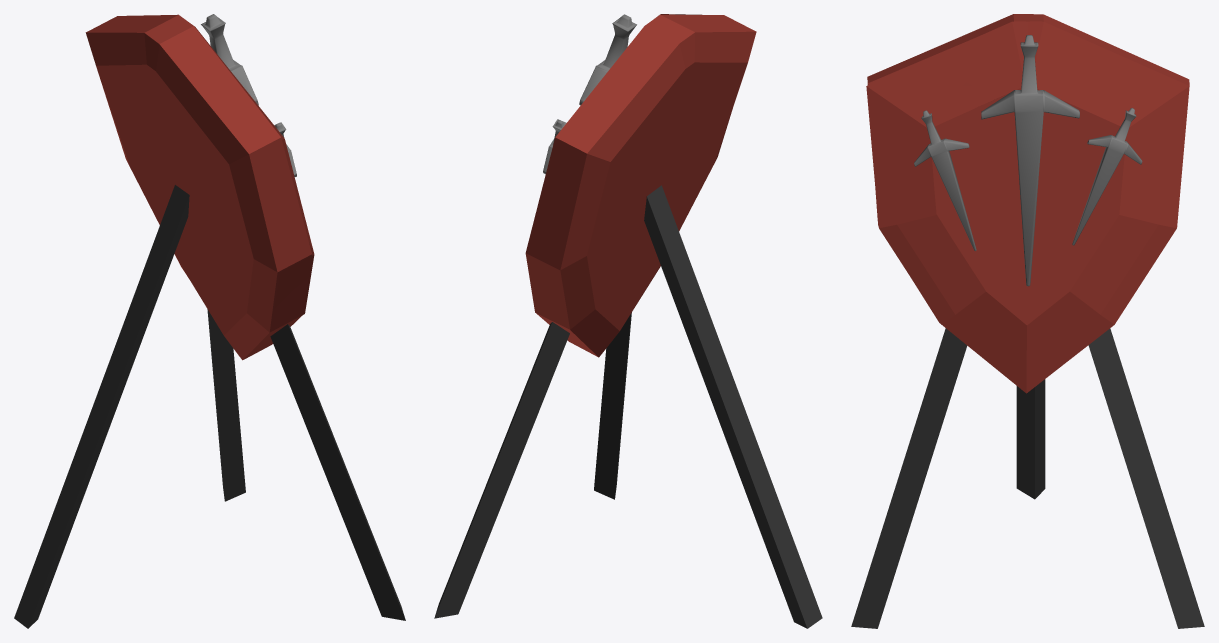
File: tarcza.fbx
3 renders of one model, left to right at view 1: azimuth 30°, elevation 25°; view 2: azimuth 150°, elevation 25°; view 3: azimuth 270°, elevation 25°, orthographic. The views are drawn at different scales.
Visible parts, largest first — view 1: tarcza; view 2: tarcza; view 3: tarcza.
Boxes of the visible parts, x1=… form: tarcza: x1=14, y1=14, x2=405, y2=628; tarcza: x1=434, y1=14, x2=822, y2=628; tarcza: x1=851, y1=14, x2=1204, y2=628.
Bounding box in the file's own units: 139 × 250 × 146.
